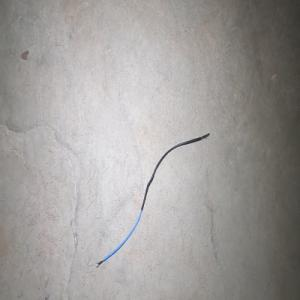Wire: (95, 133, 210, 267)
